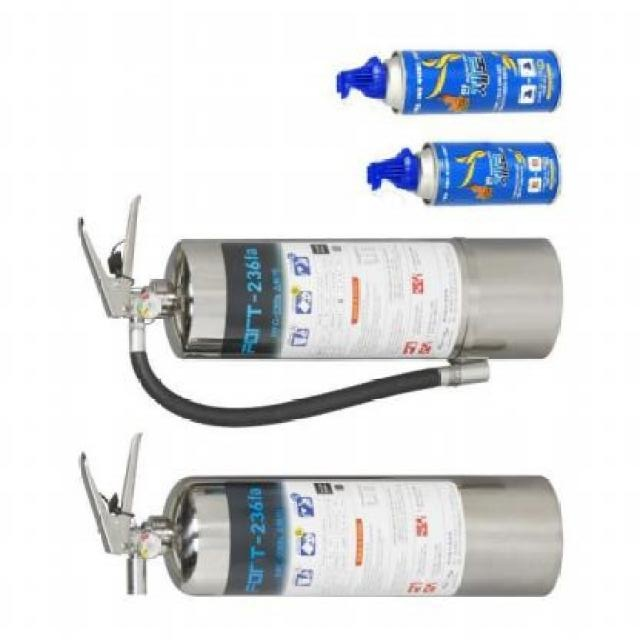fire extinguisher: (77, 195, 565, 428), (77, 433, 565, 598)
